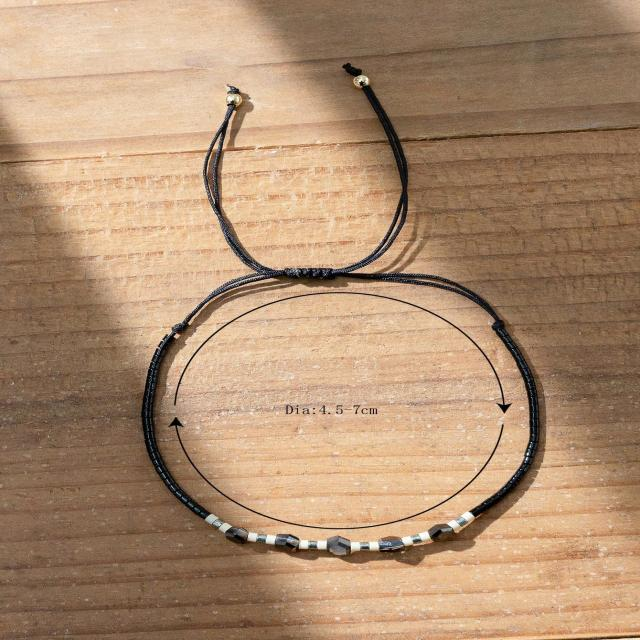bracelet: (68, 26, 612, 620)
